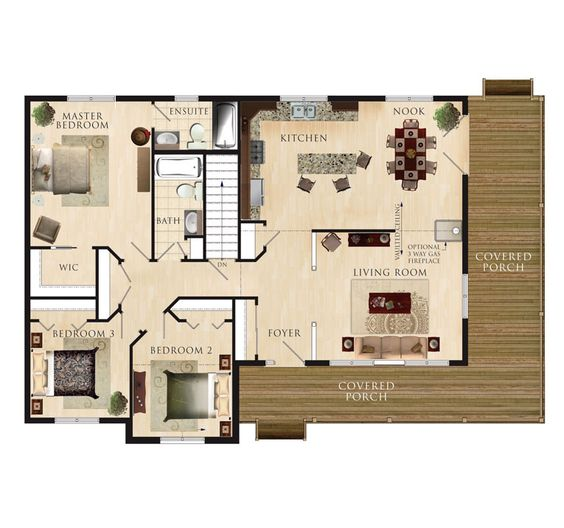room: (236, 95, 467, 232), (312, 228, 467, 367), (24, 96, 155, 250), (23, 296, 132, 424), (129, 319, 234, 445)
